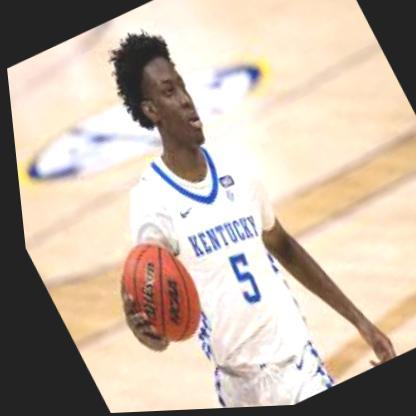basketball: (100, 233, 211, 356)
